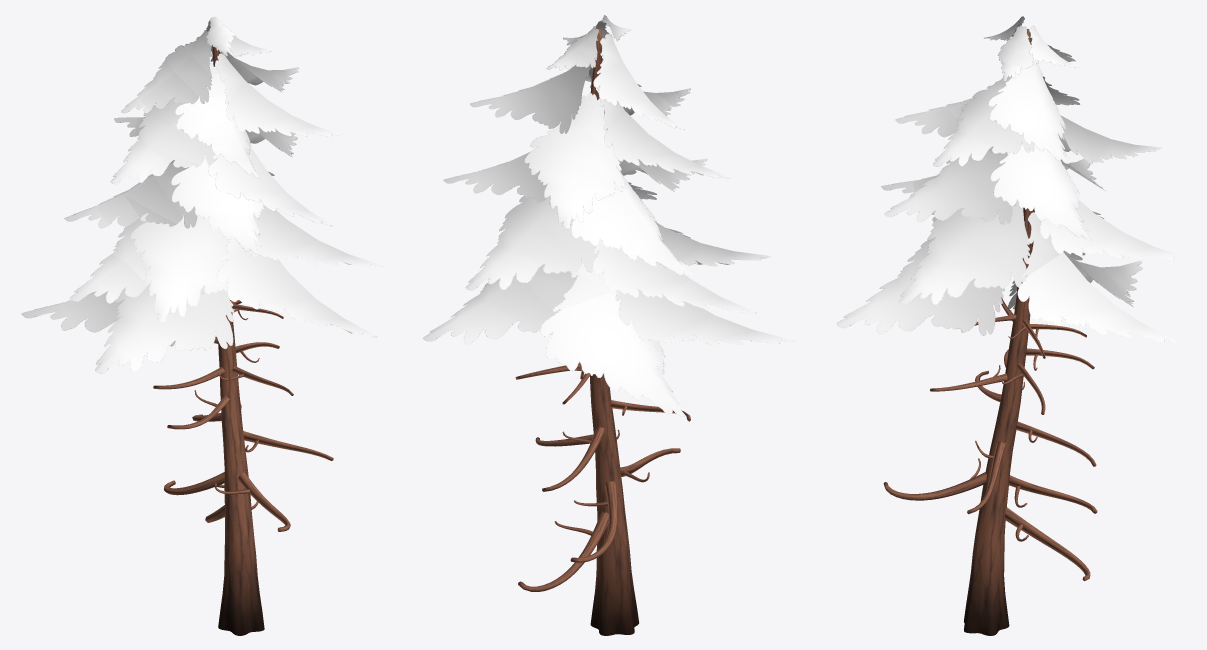
The model's file is Pine_3.gltf.
The picture shows the model from 3 angles, left to right: view 1: azimuth 30°, elevation 25°; view 2: azimuth 150°, elevation 25°; view 3: azimuth 270°, elevation 25°; orthographic projection. The views are drawn at different scales.
Visible parts, largest first — view 1: Pine_3; view 2: Pine_3; view 3: Pine_3.
Part boxes in pixels (<box>): Pine_3: <box>21,16,382,635</box>; Pine_3: <box>423,15,794,635</box>; Pine_3: <box>836,16,1186,635</box>.
Size of the model in its own units: 3.61 by 7.39 by 4.
Materials: 2 (2 with a texture image).
